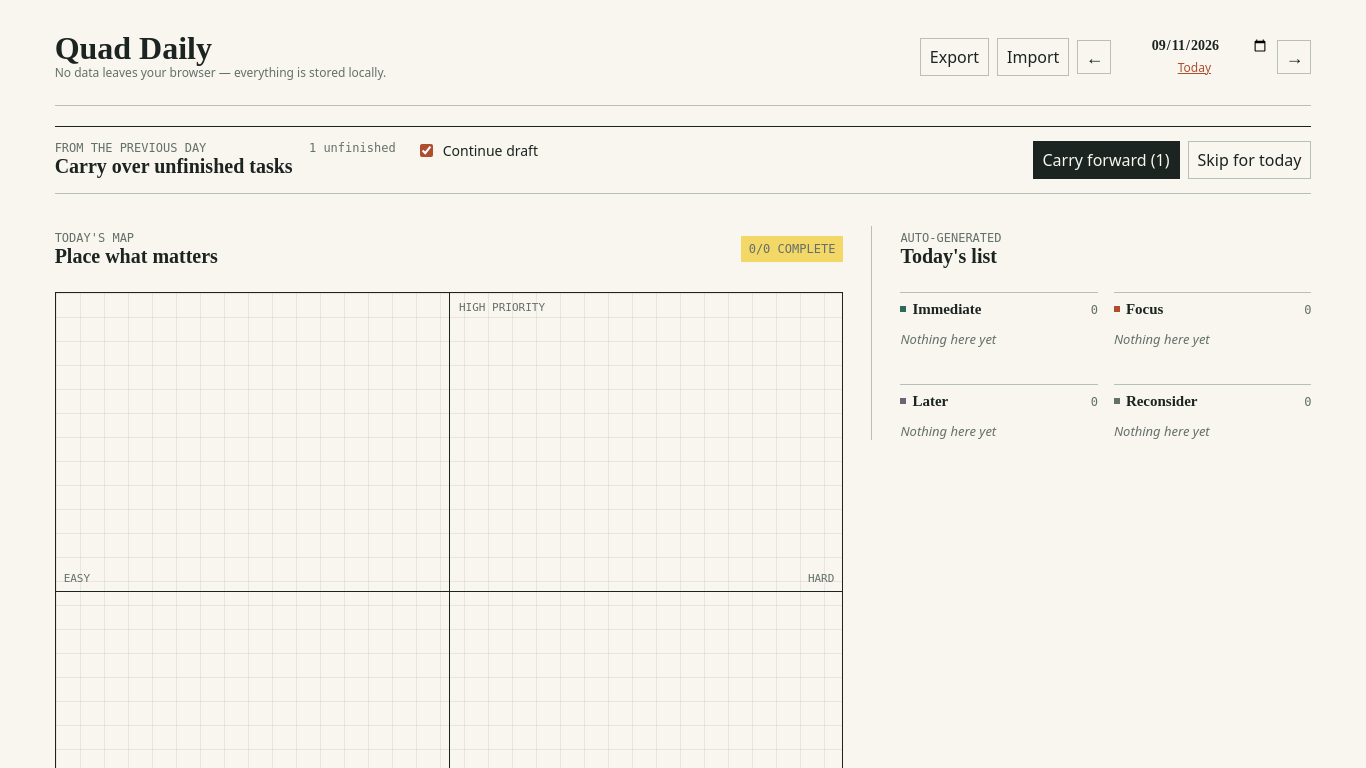
Test: App › offers to carry unfinished tasks forward from yesterday
This screenshot has width=1366, height=768.
Expected: the heading "Carry over unfinished tasks" is shown, top-left (55, 155), bottom-right (293, 178)
Expected: the checkbox named "Carry Continue draft" is checked, top-left (420, 144), bottom-right (433, 157)
What coordinates should you click on to do the following:
click the button "Carry forward (1)"
I would click on:
 (1106, 160)
Its box is top-left (1032, 141), bottom-right (1180, 179).
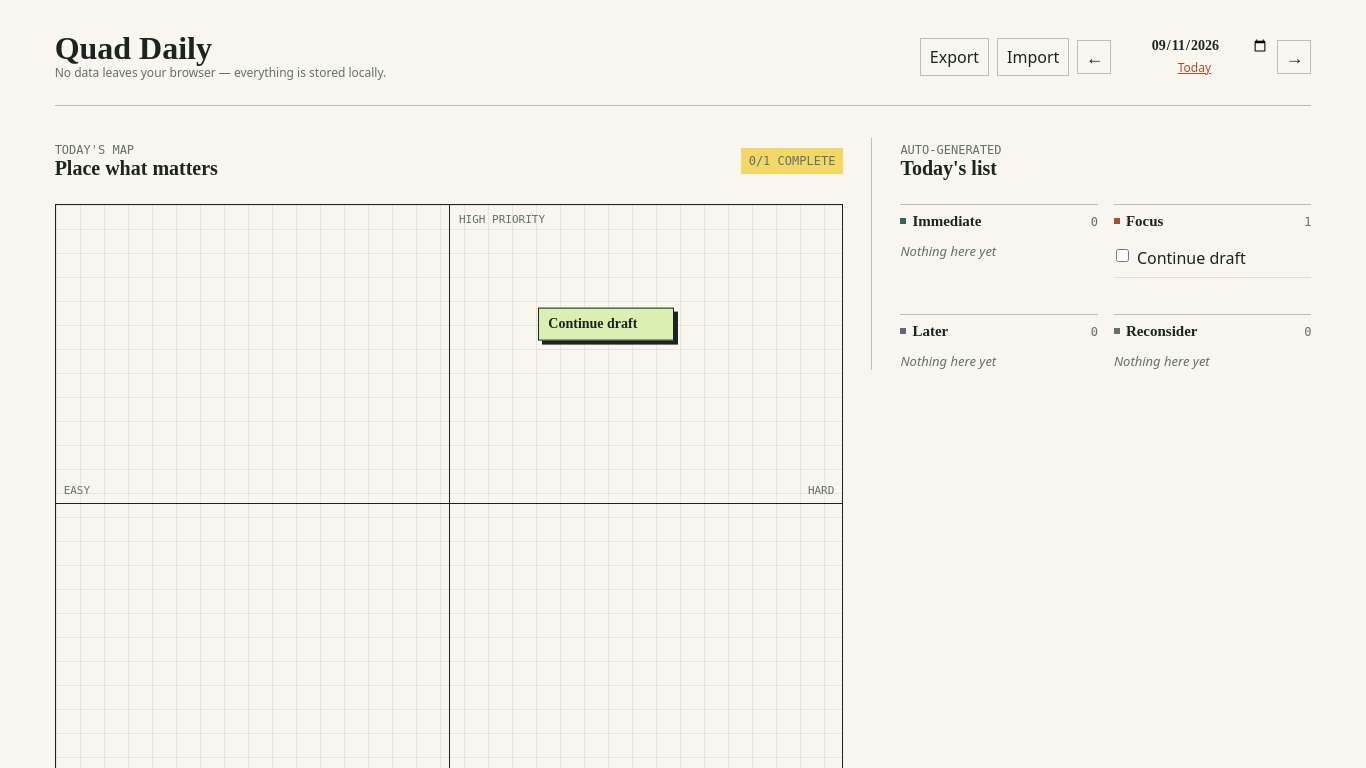
Expected: the heading "Continue draft" is shown, top-left (548, 316), bottom-right (637, 331)
Expected: the heading "Carry over unfinished tasks" is gone
What coordinates should you click on to do the following:
click the button named "Previous day"
I would click on:
 (1094, 56)
Its box is top-left (1077, 40), bottom-right (1111, 74).
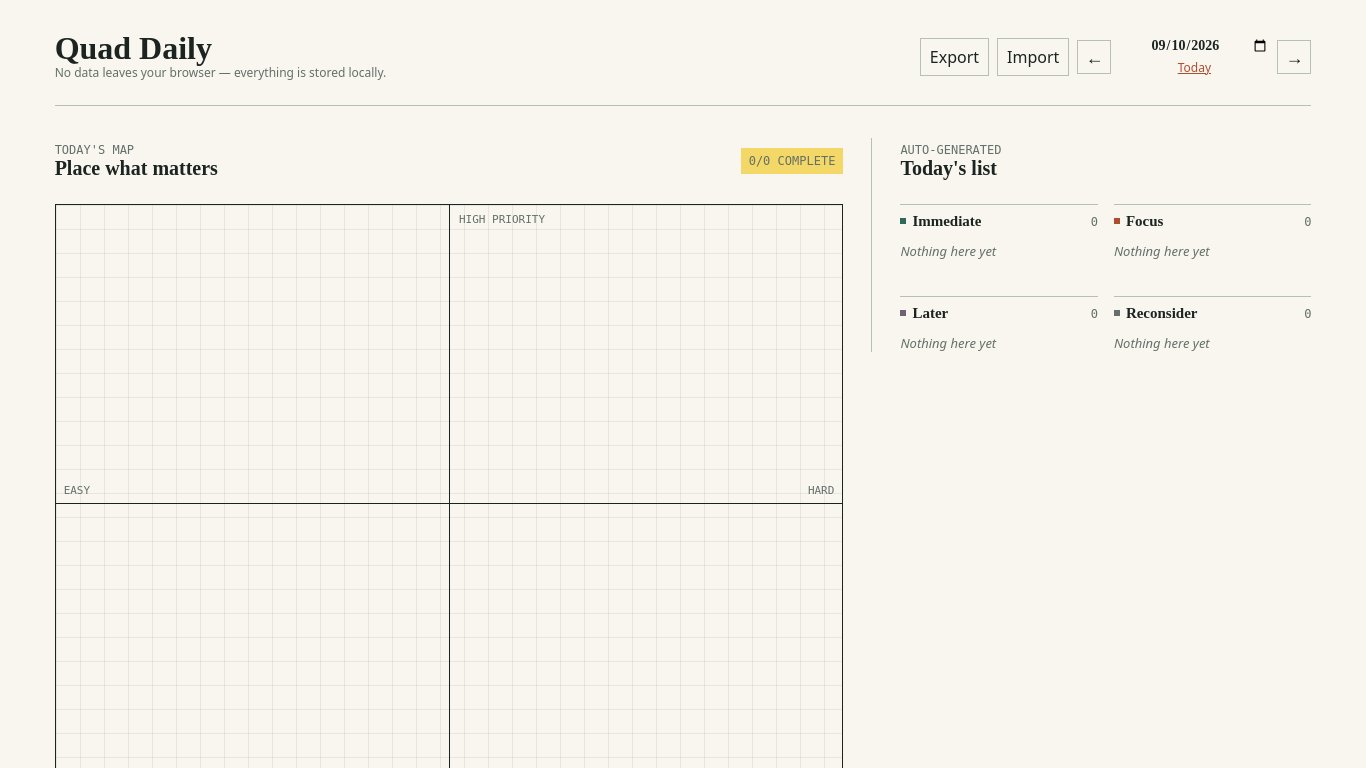
Expected: the button "Continue draft" is gone
